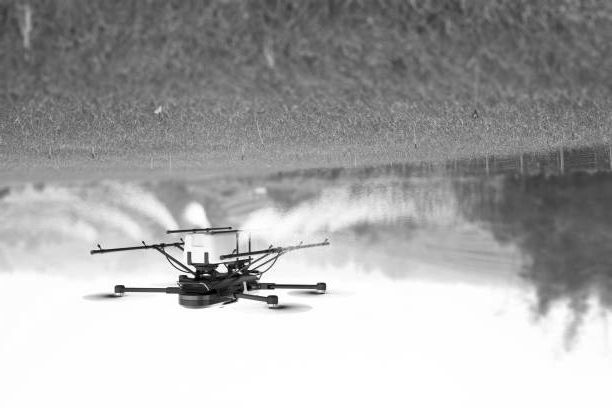Drone: (81, 254, 344, 316)
